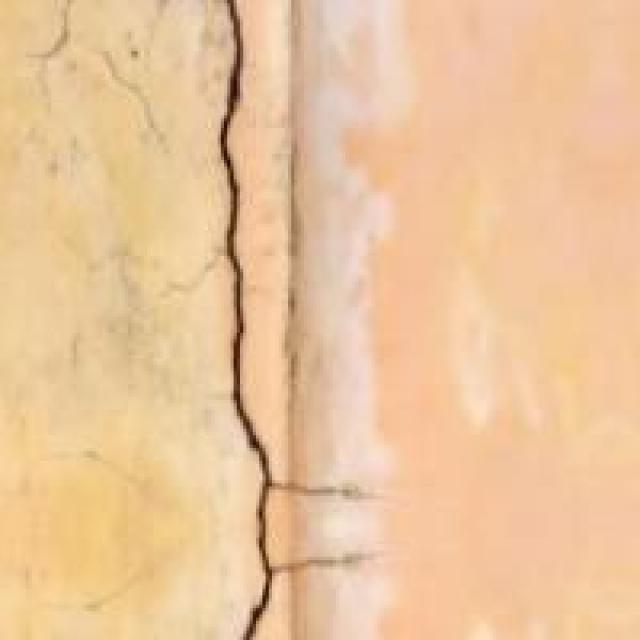crack: (157, 0, 346, 637)
